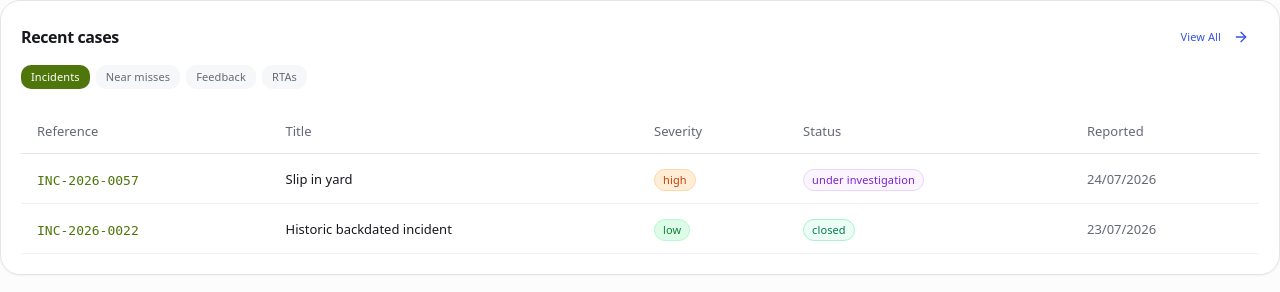
Test: RecentCasesPanel case links (FR-DASH-RECENT-01) › names the row by the kind of case it opens
Click the tab with test id "recent-cases-tab-near_misses".
click(138, 77)  # box 96,65 -> 180,89
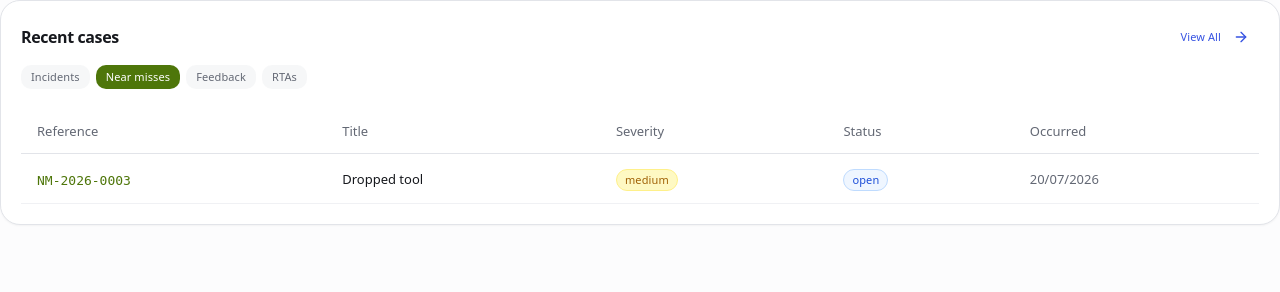
Result: the row named "View near miss: NM-2026-0003" is shown at 21,154 -> 1259,204
